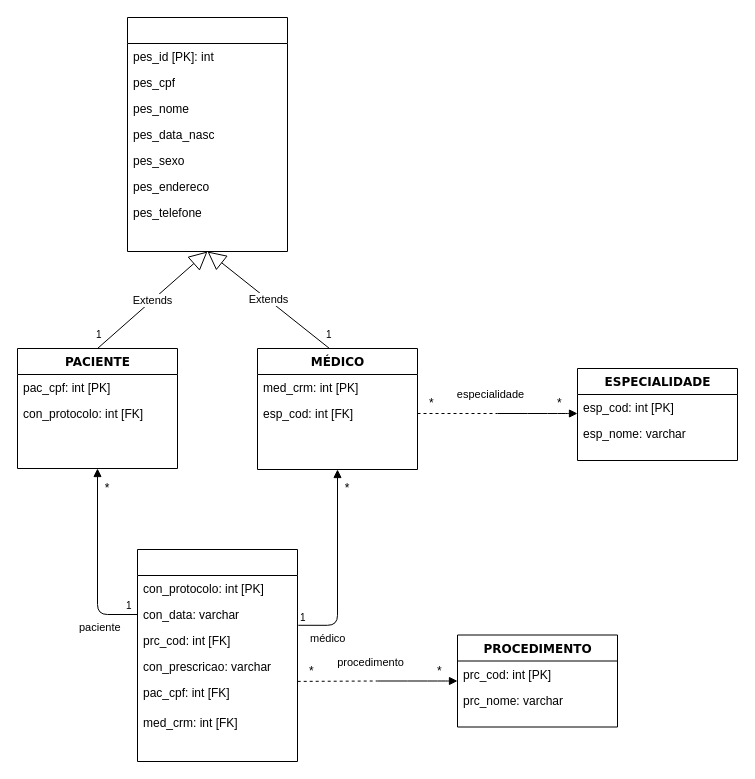
Some shapes in this 755 by 779 pixel diagram are drawn without their labels. Here are the shapes that lost their labels. From the top down, the box of each, then its label:
(126, 16, 288, 252): PESSOA
(136, 548, 298, 762): CONSULTA
